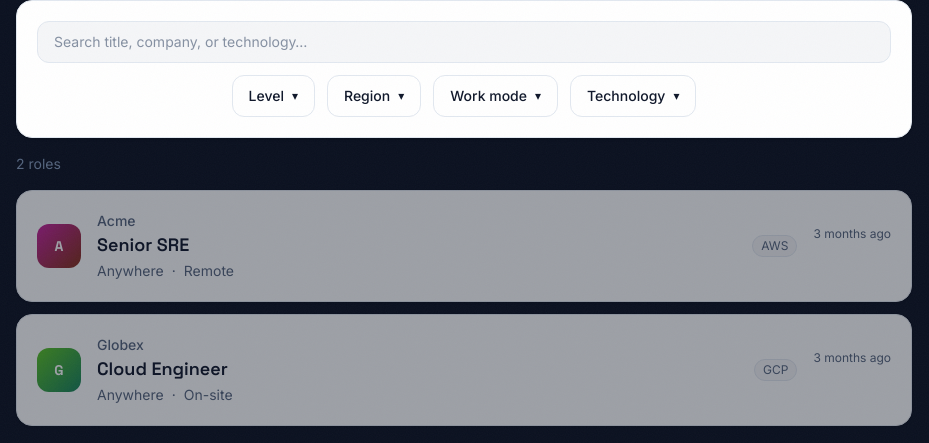
Scenario: JobBoard › typing a keyword narrows the list
Type "sre" into the search field named "Search jobs" at point(464, 42), box [37, 21, 891, 63]
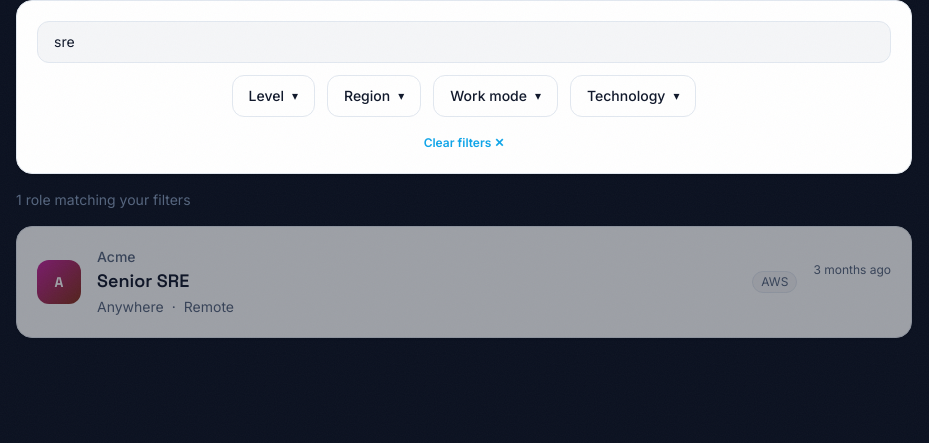
Expected: the heading "Senior SRE" is shown, [97, 267, 189, 295]
Now the link "Cloud Engineer" is gone
